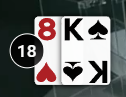8: (33, 15, 60, 43)
k: (60, 15, 87, 44)
